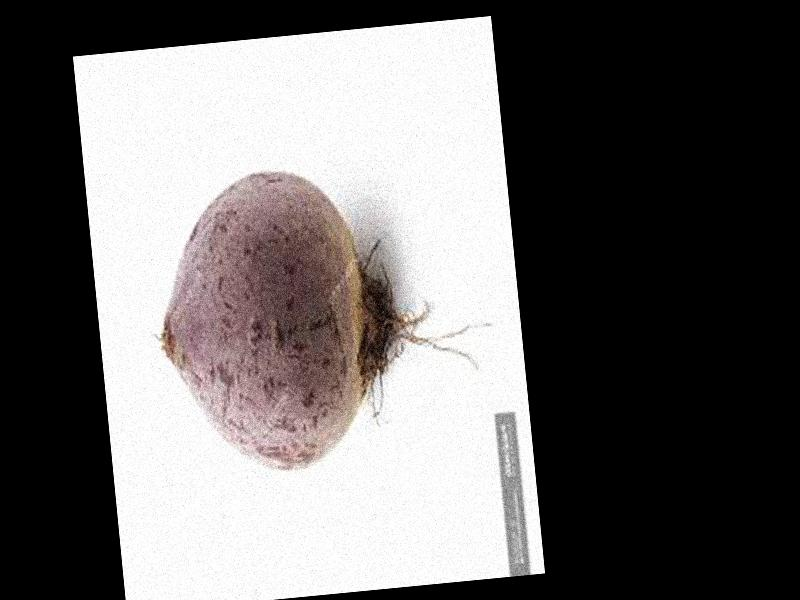Beet: (143, 150, 505, 484)
